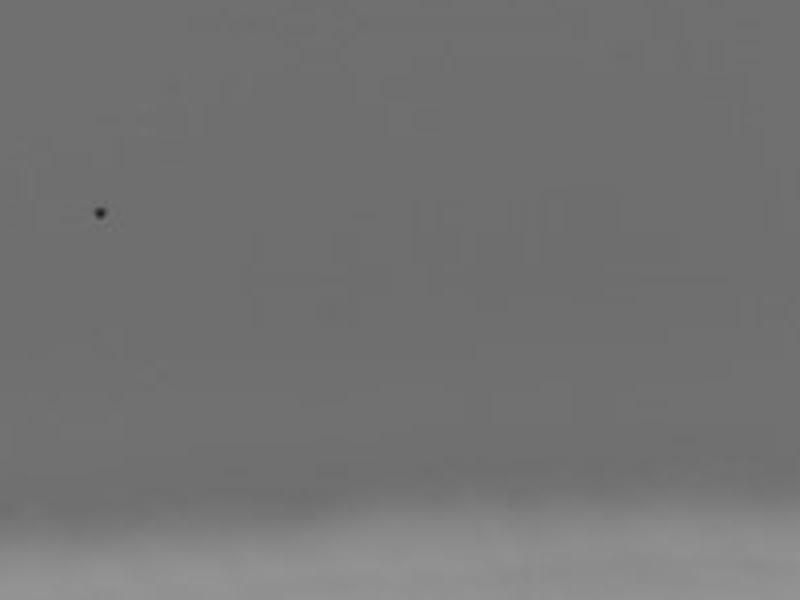defect: (89, 202, 114, 225)
